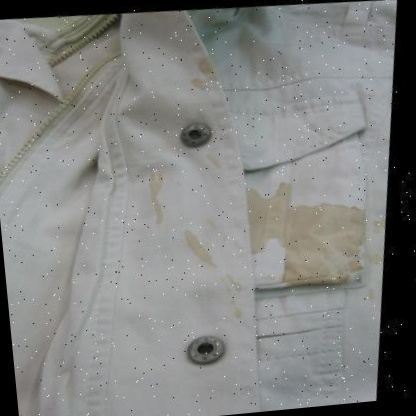coffee: (290, 205, 354, 280), (249, 189, 288, 238), (149, 178, 166, 222), (201, 61, 216, 79), (188, 234, 198, 253)
